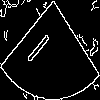I: (25, 24, 57, 66)
